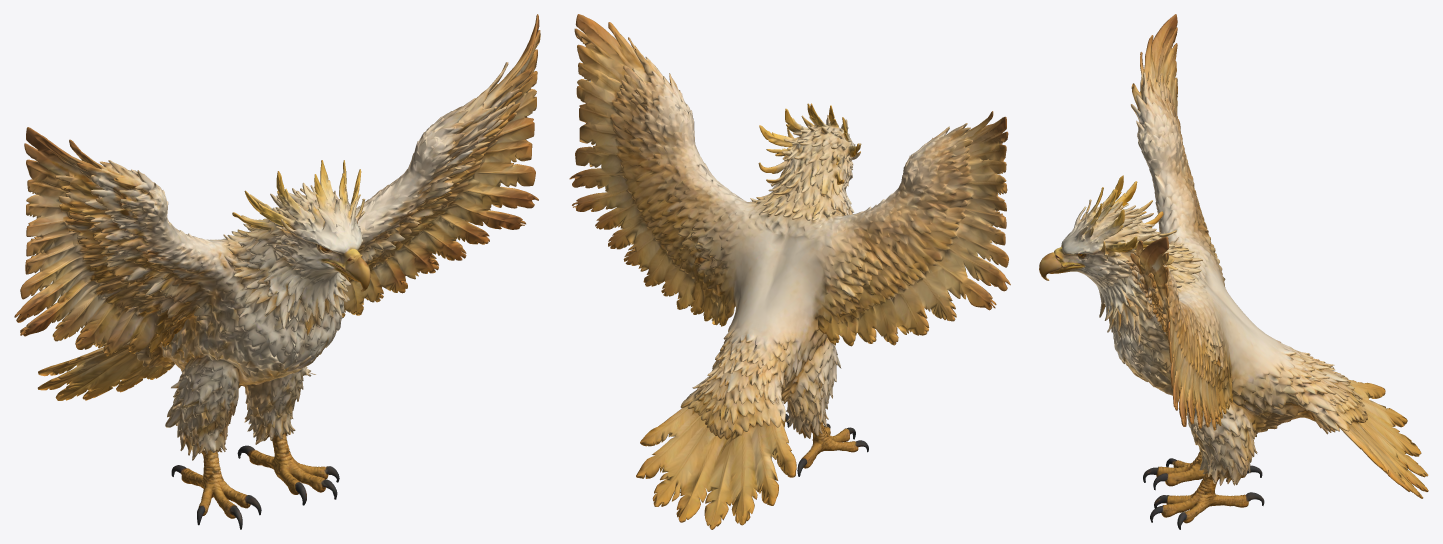
Rendered from solara.glb.
3 views of the same model, side by side, from view 1: azimuth 30°, elevation 25°; view 2: azimuth 150°, elevation 25°; view 3: azimuth 270°, elevation 25° (orthographic). The views are drawn at different scales.
Parts seen in each view (by area): view 1: tripo_node_7e1ce8d6-6ff0-470a-a455-21fff83c3dd1; view 2: tripo_node_7e1ce8d6-6ff0-470a-a455-21fff83c3dd1; view 3: tripo_node_7e1ce8d6-6ff0-470a-a455-21fff83c3dd1.
Part boxes in pixels (left/top/right/bottom): tripo_node_7e1ce8d6-6ff0-470a-a455-21fff83c3dd1: left=14, top=14, right=540, bottom=529; tripo_node_7e1ce8d6-6ff0-470a-a455-21fff83c3dd1: left=569, top=14, right=1010, bottom=529; tripo_node_7e1ce8d6-6ff0-470a-a455-21fff83c3dd1: left=1039, top=14, right=1428, bottom=529.
Bounding box in the file's own units: 0.9857 × 0.7922 × 0.7266.
Materials: 1 (1 with a texture image).
